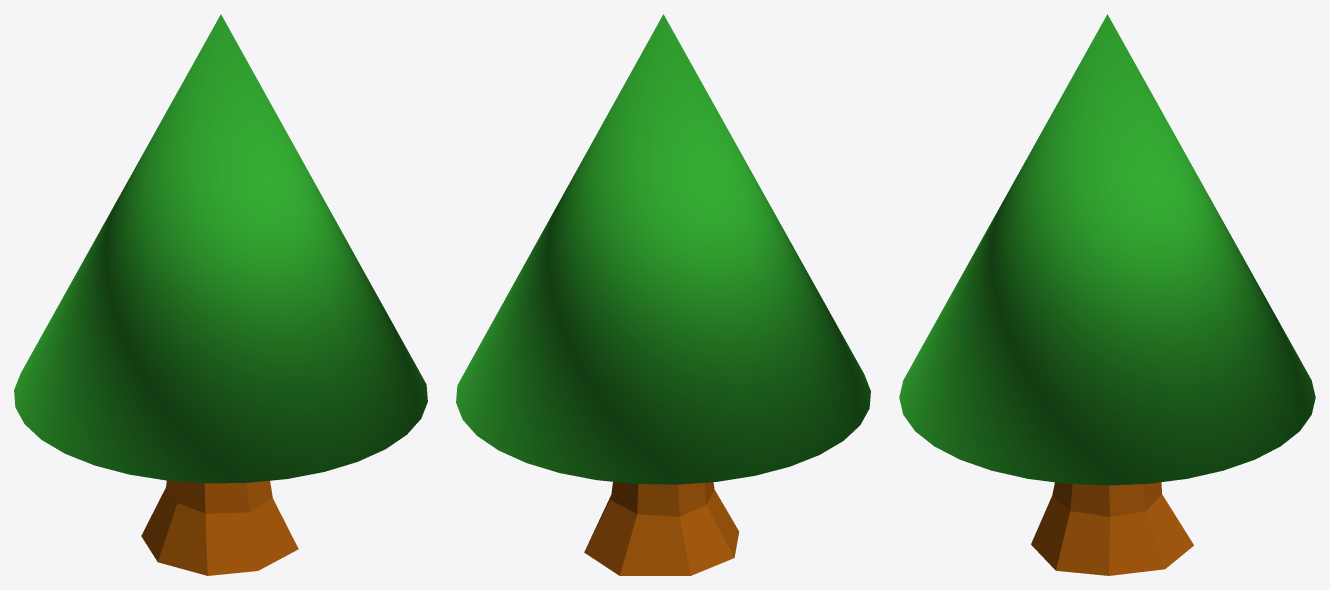
Rendered from Tree_Cone4.fbx.
3 renders of one model, left to right at view 1: azimuth 30°, elevation 25°; view 2: azimuth 150°, elevation 25°; view 3: azimuth 270°, elevation 25°, orthographic.
Visible parts, largest first — view 1: Tree_Cone4; view 2: Tree_Cone4; view 3: Tree_Cone4.
Part boxes in pixels (x1,y1,x2,y2): Tree_Cone4: (14, 14, 427, 575); Tree_Cone4: (456, 14, 870, 575); Tree_Cone4: (899, 14, 1315, 575).
Size of the model in its own units: 3.49 by 3.49 by 4.92.
